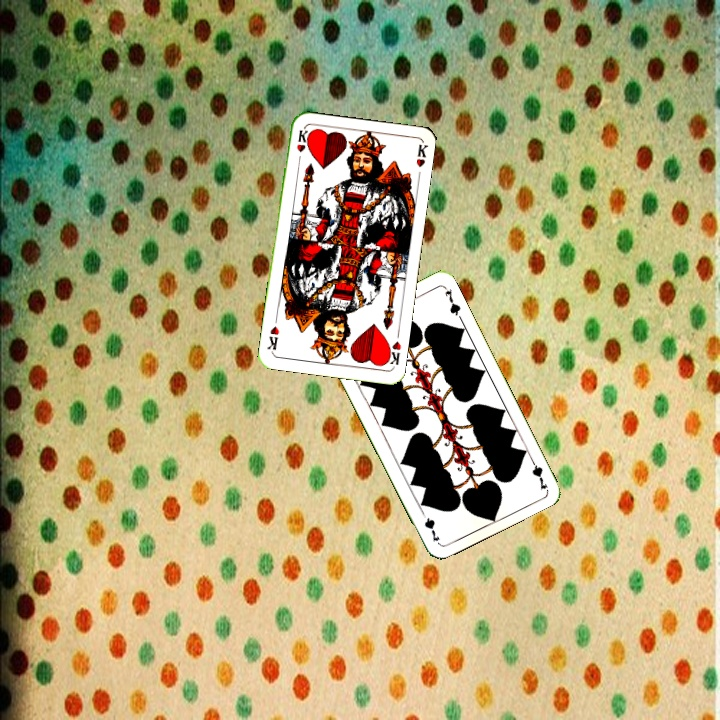G7: (525, 452, 550, 492)
HK: (292, 126, 311, 166), (382, 337, 404, 367)
